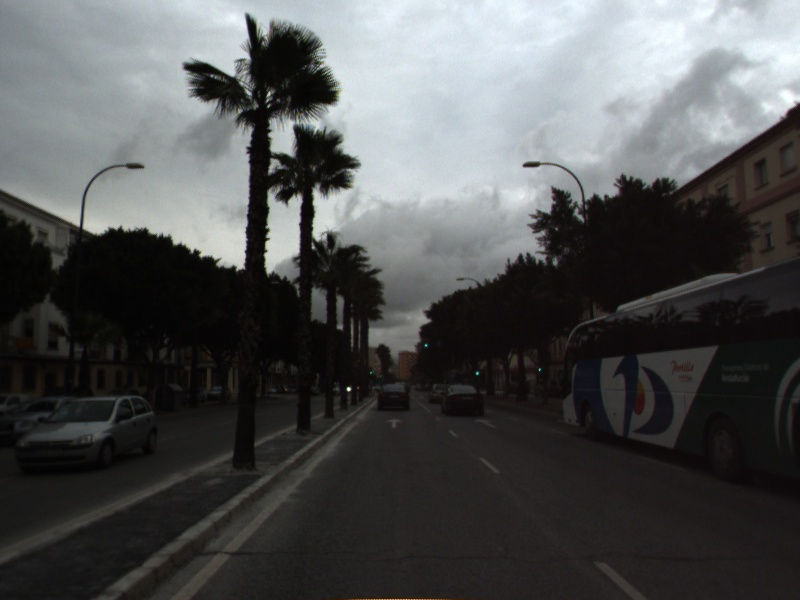STRAIGHT: (472, 415, 500, 430), (383, 416, 405, 430)
